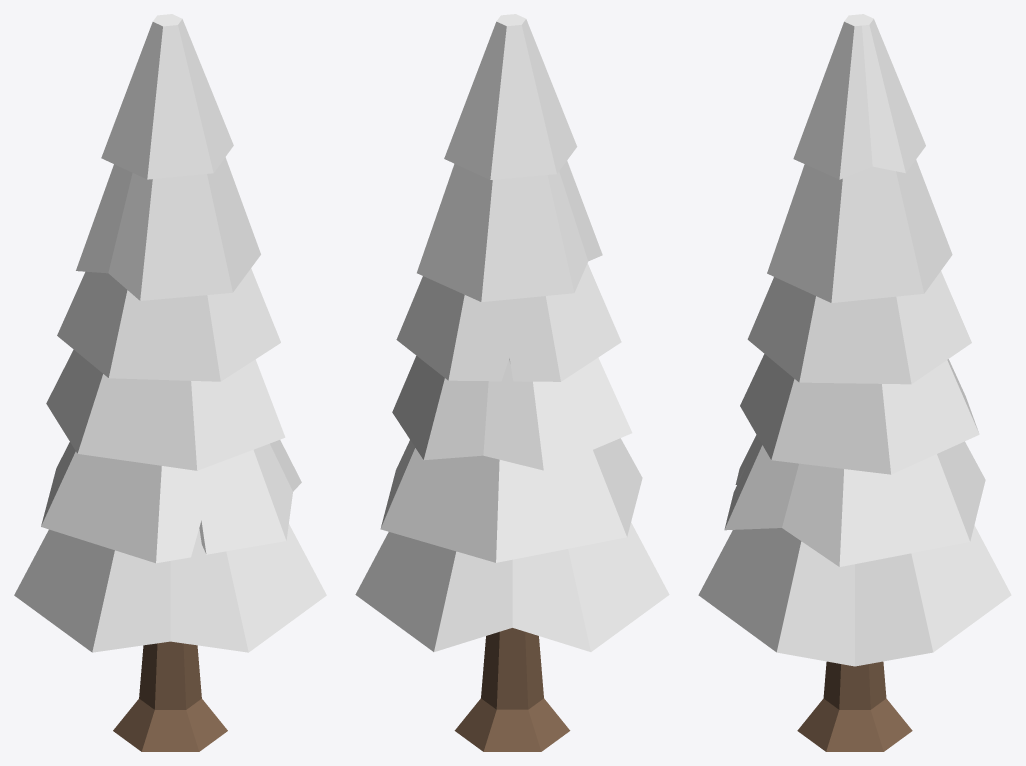
File: tree 10.fbx
The picture shows the model from 3 angles, left to right: view 1: azimuth 30°, elevation 25°; view 2: azimuth 150°, elevation 25°; view 3: azimuth 270°, elevation 25°; orthographic projection.
Visible parts, largest first — view 1: Tree 10; view 2: Tree 10; view 3: Tree 10.
Part boxes in pixels (<box>): Tree 10: <box>14,14,326,751</box>; Tree 10: <box>355,14,669,751</box>; Tree 10: <box>698,14,1011,751</box>.
Size of the model in its own units: 215 by 594 by 237.
1 material, 1 textured.
